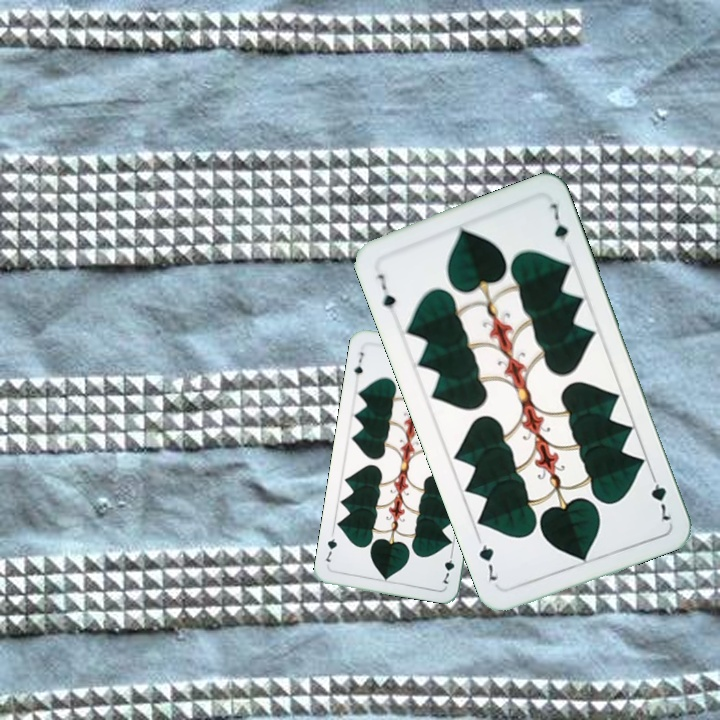G7: (646, 468, 674, 525), (373, 270, 399, 312), (437, 547, 457, 586), (350, 348, 366, 382)
